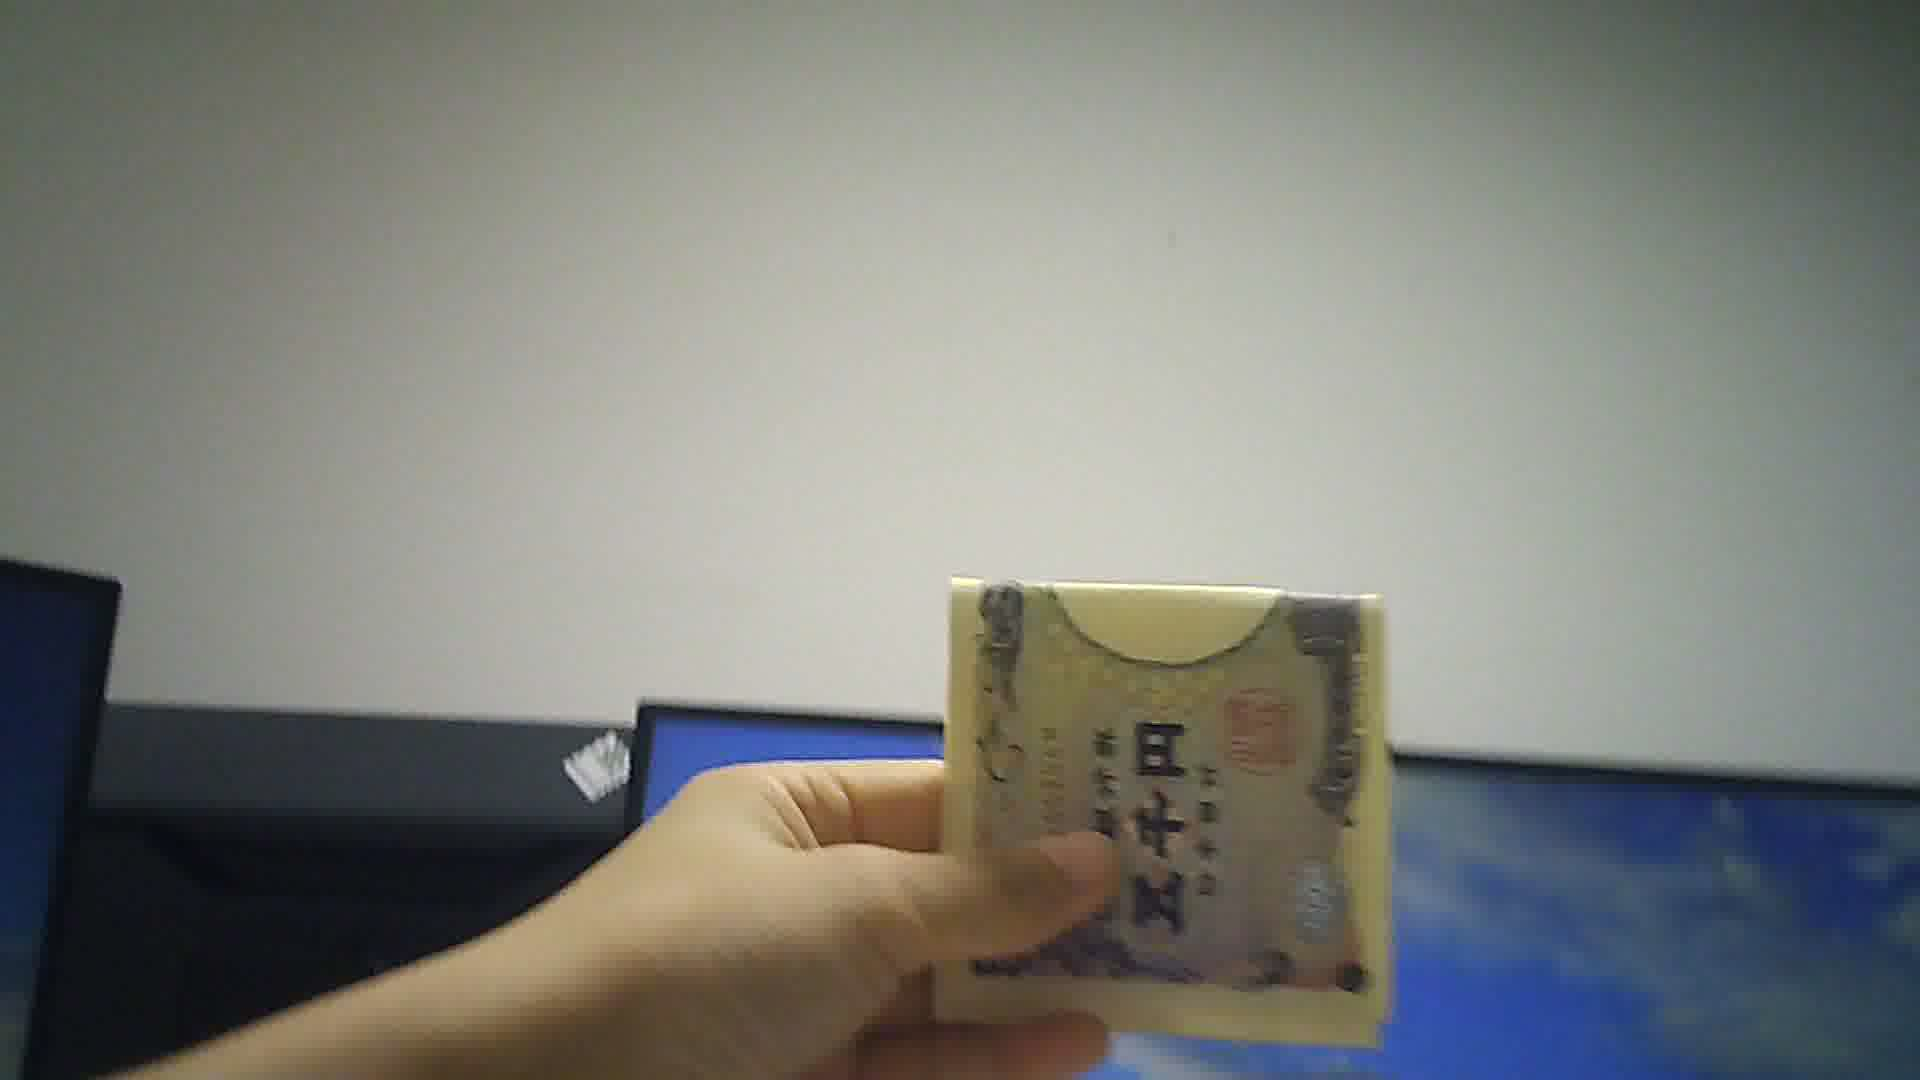5,000 Yen: (923, 542, 1418, 1044)
